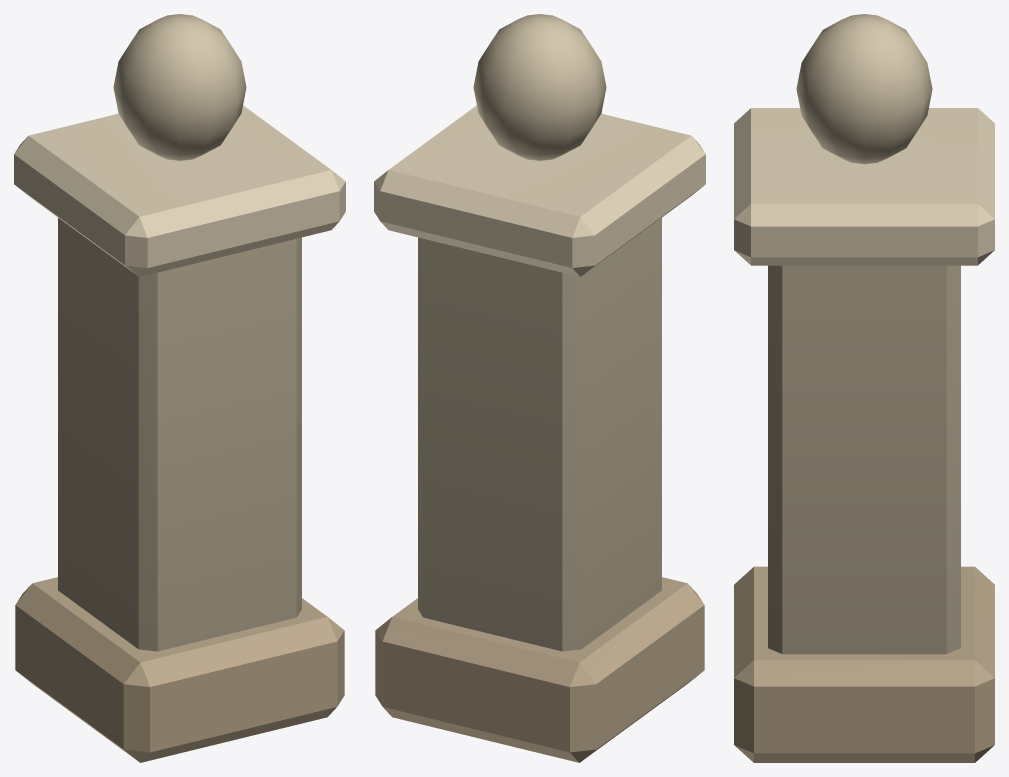
Rendered from mp_gate_post.glb.
The picture shows the model from 3 angles, left to right: view 1: azimuth 30°, elevation 25°; view 2: azimuth 150°, elevation 25°; view 3: azimuth 270°, elevation 25°; orthographic projection. The views are drawn at different scales.
Parts seen in each view (by area): view 1: mp_gate_post; view 2: mp_gate_post; view 3: mp_gate_post.
Part boxes in pixels (<box>): mp_gate_post: <box>14,14,345,762</box>; mp_gate_post: <box>374,14,705,762</box>; mp_gate_post: <box>734,14,994,762</box>.
Bounding box in the file's own units: 0.46 × 1.36 × 0.46.
